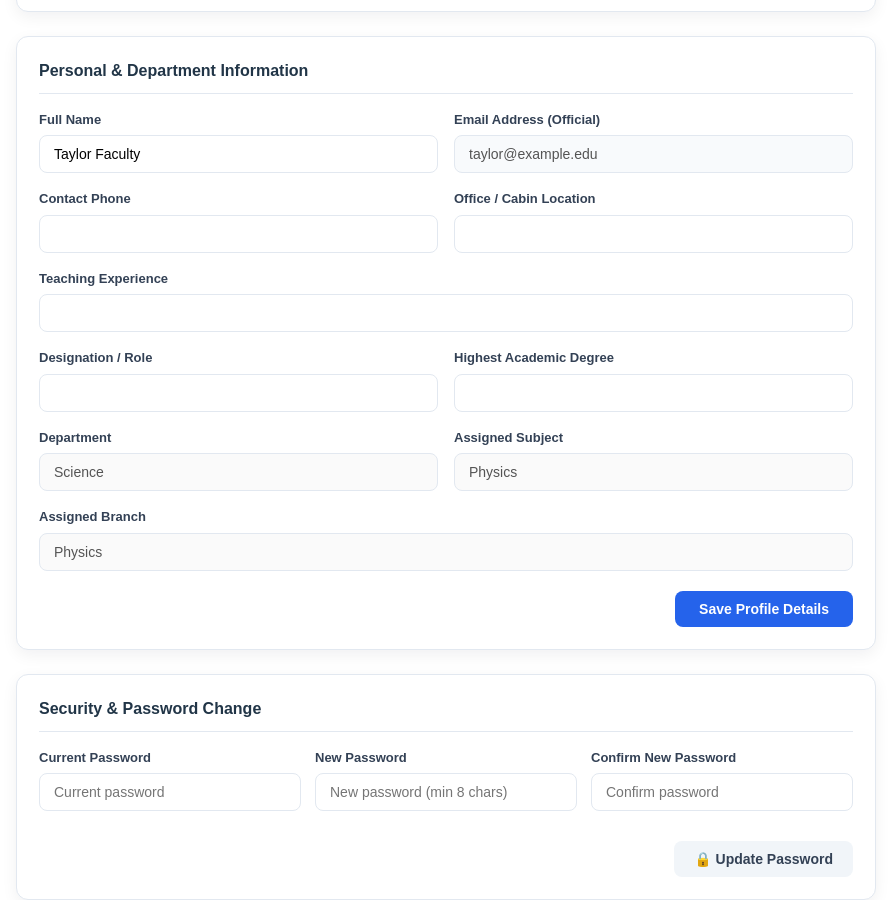
Test case: Faculty profile persistence › changes the password using current-password verification and shows success
(page scrolled)
Type "CurrentPassword123" into the password field labelled "Current Password".
click(170, 792); type("CurrentPassword123")  # box [39,773,301,811]
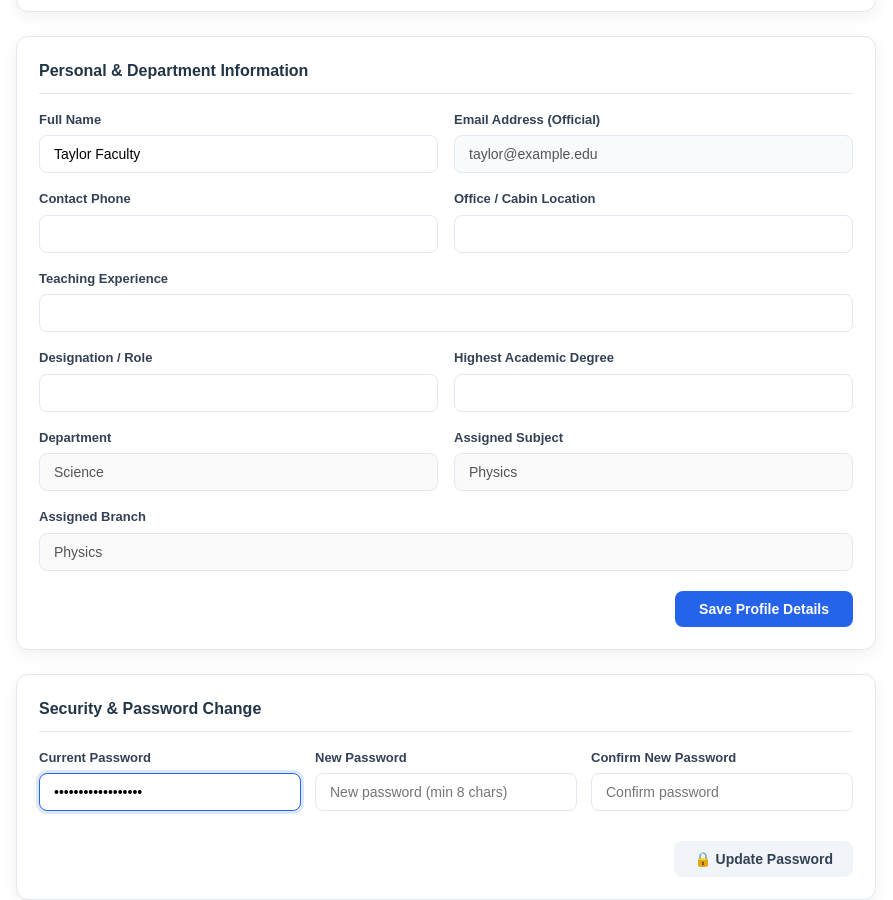
Type "NewPassword123" into the password field labelled "New Password".
click(446, 792); type("NewPassword123")  # box [315,773,577,811]
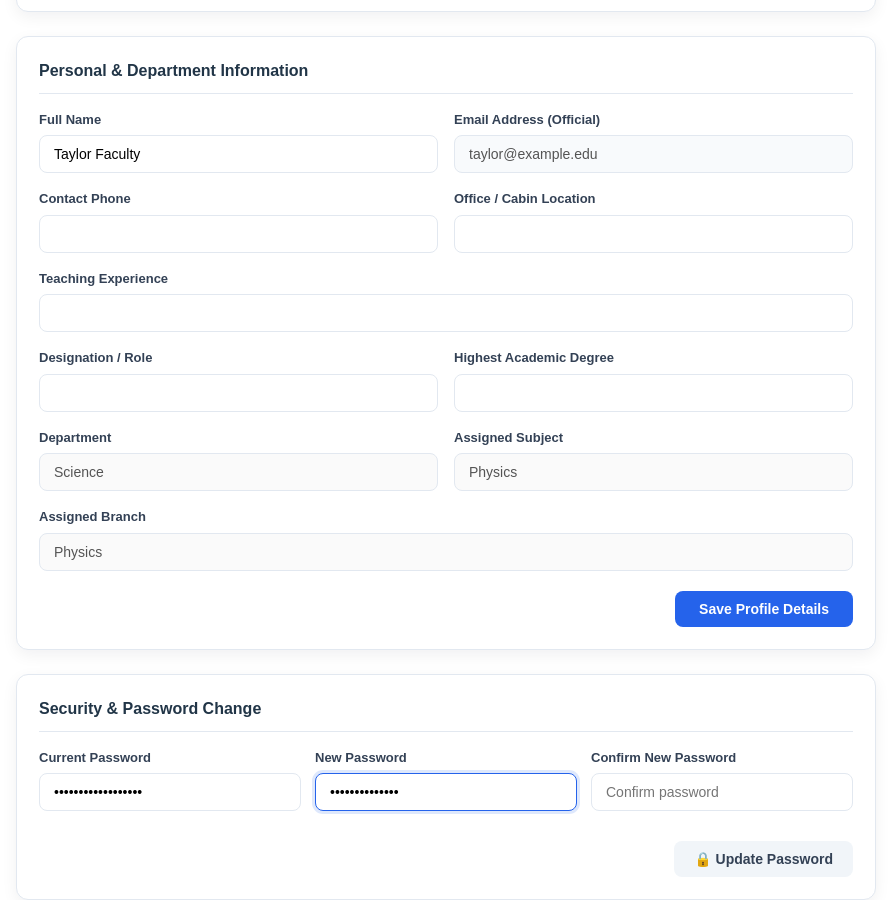
Type "NewPassword123" into the password field labelled "Confirm New Password".
click(722, 792); type("NewPassword123")  # box [591,773,853,811]
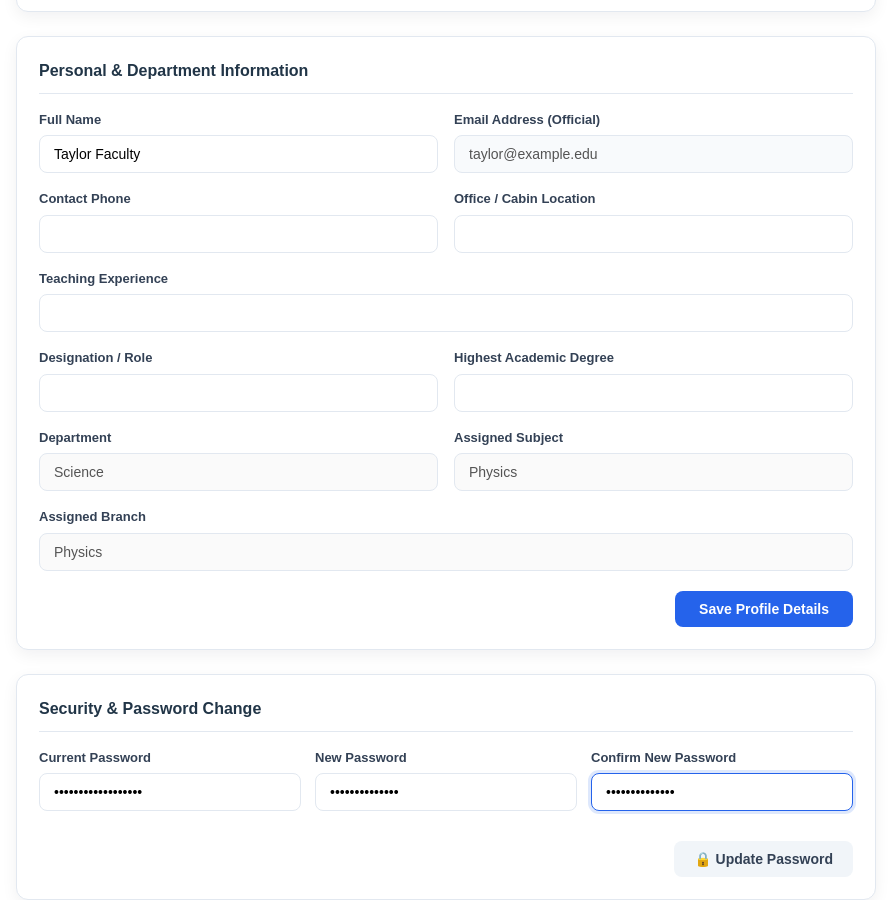
Click the button "🔒 Update Password".
click(764, 859)  # box [674,841,853,877]
(page scrolled)
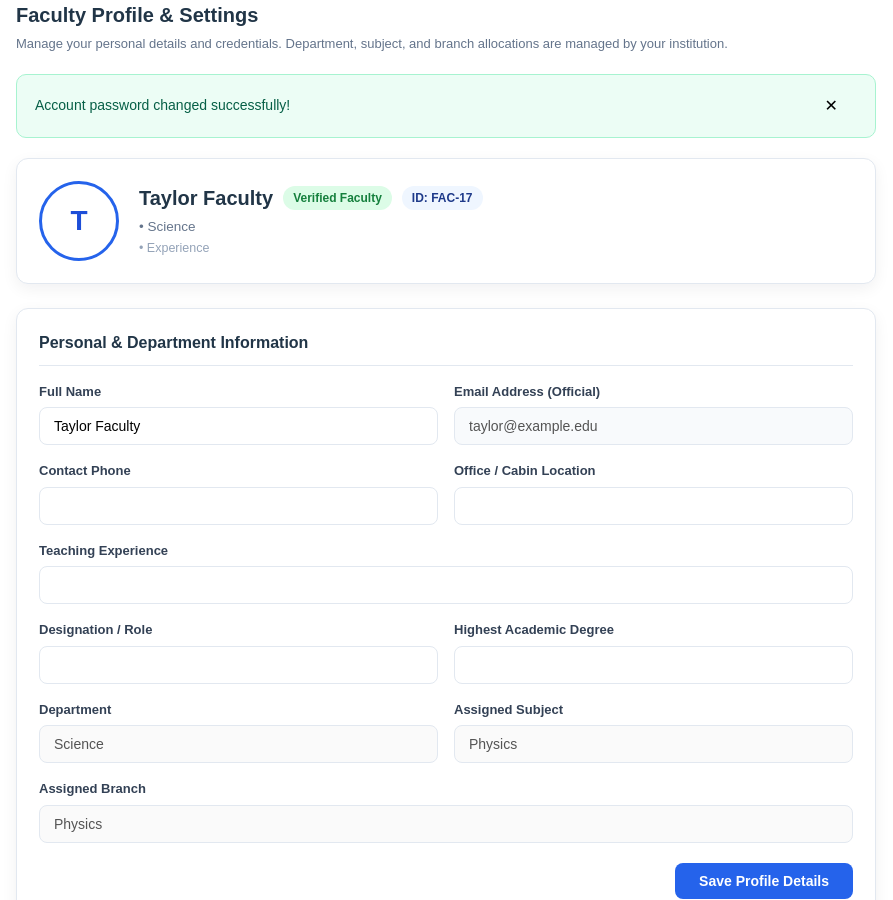
Expected: the text "Account password changed successfully!" is shown, [35,95,290,116]
